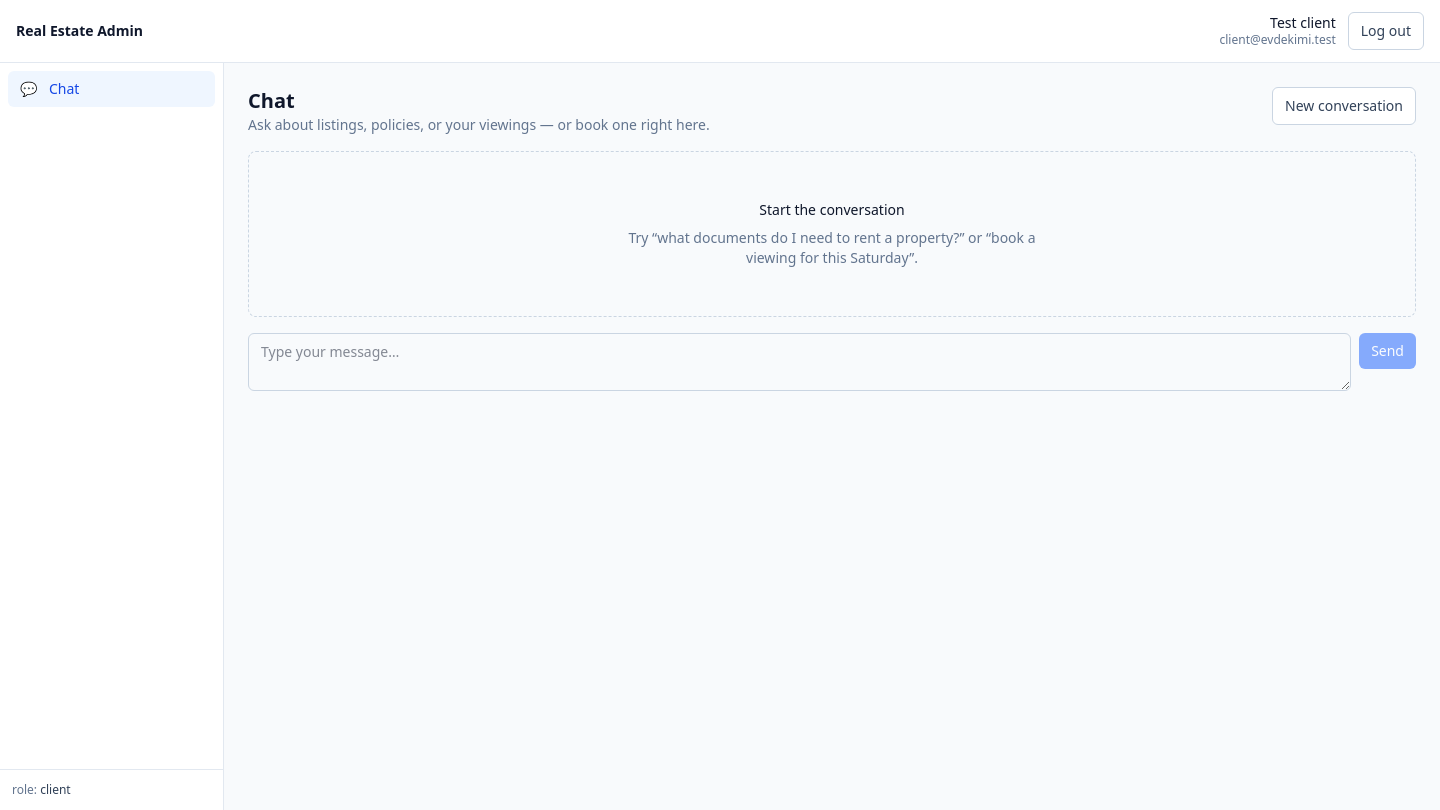
Test: ChatPage › shows an error state on a failed send and retries the same message
The image size is (1440, 810).
In the text box labelled "message": (800, 362) [248,333,1351,391], type "a question"
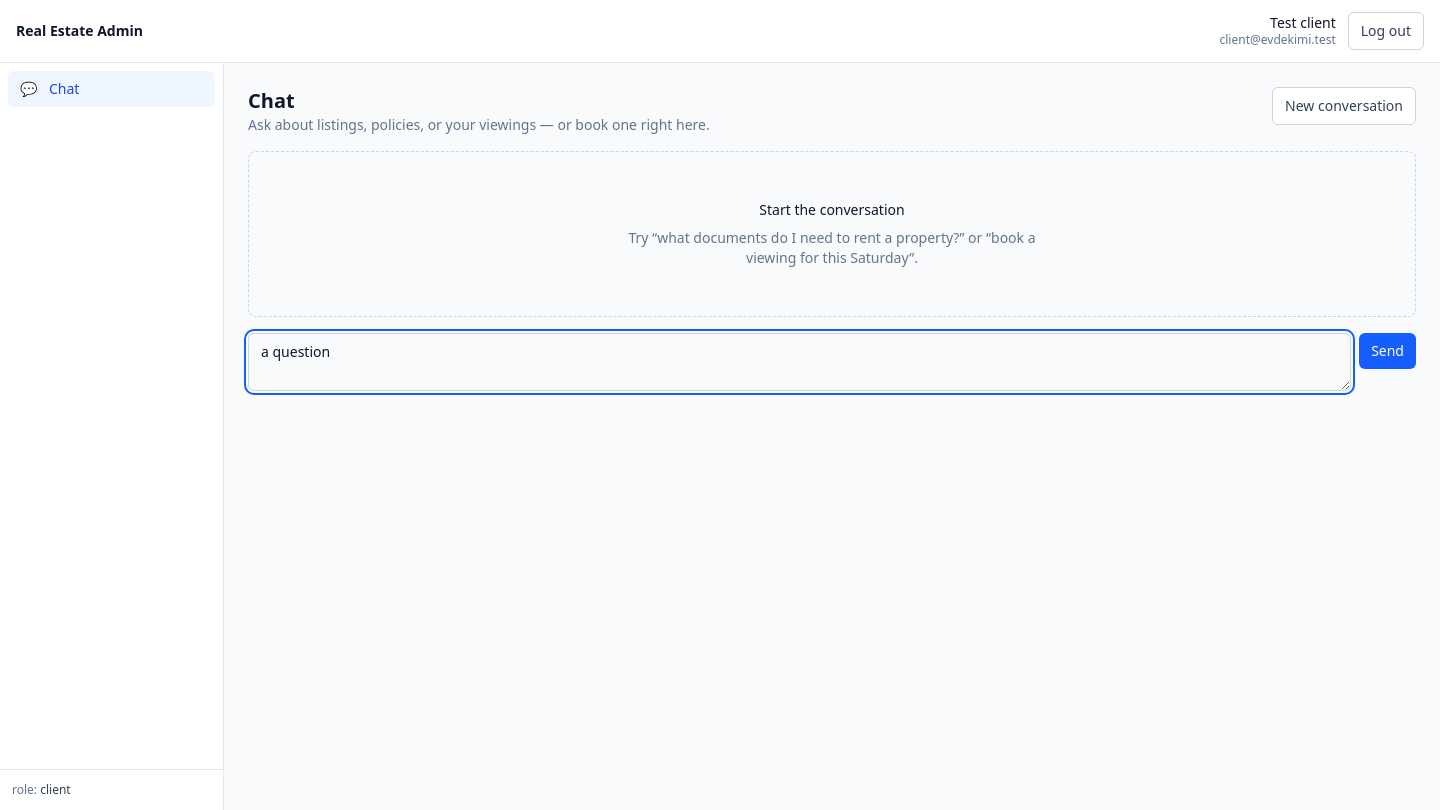
Click the button "Send": click(1388, 351) [1359,333,1416,369]
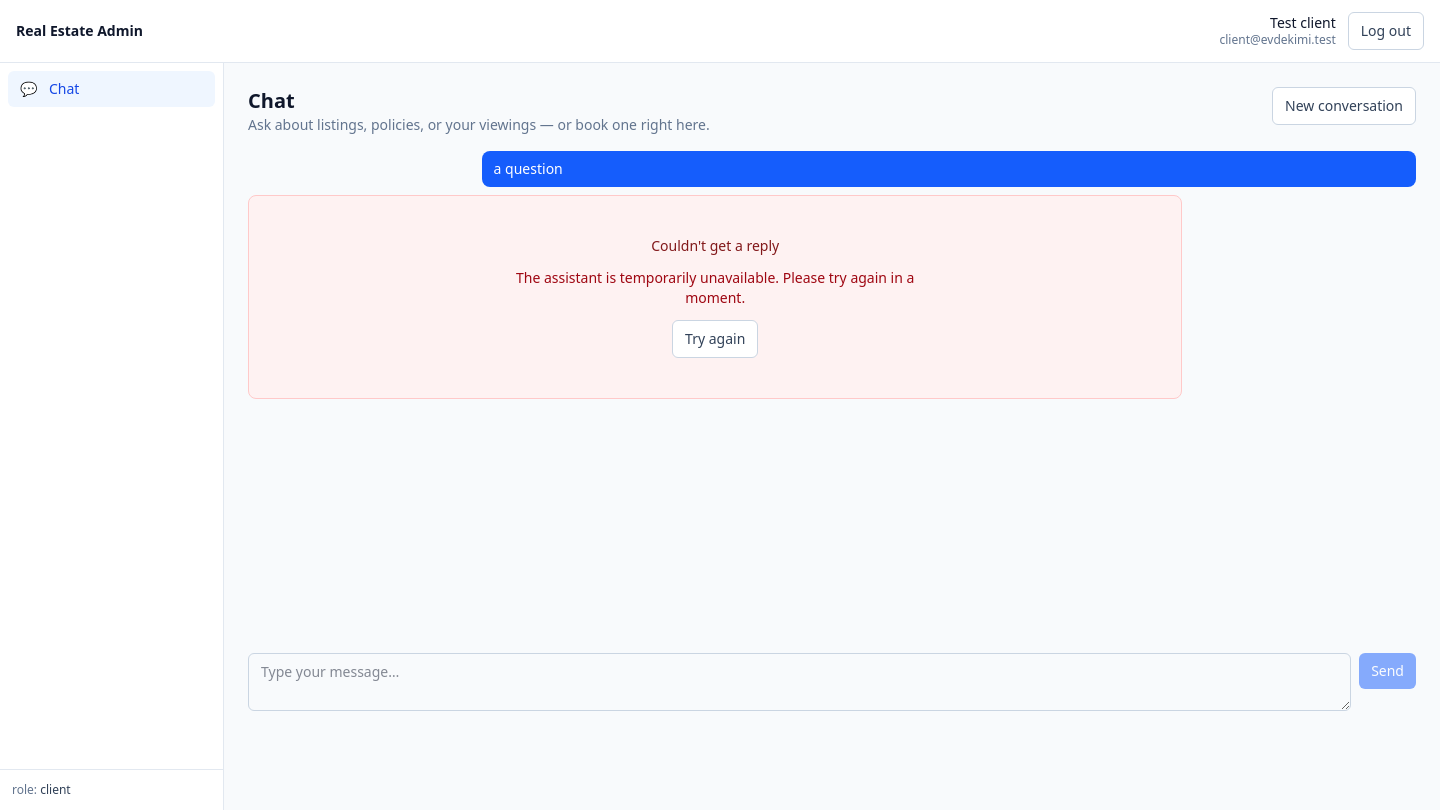
Expected: the message with test id "error-state" is shown, [248,195,1182,399]
Expected: the text "The assistant is temporarily unavailable. Please try again in a moment." is shown, [491,268,939,308]
Click the button "Try again": click(715, 339) [672,320,758,358]
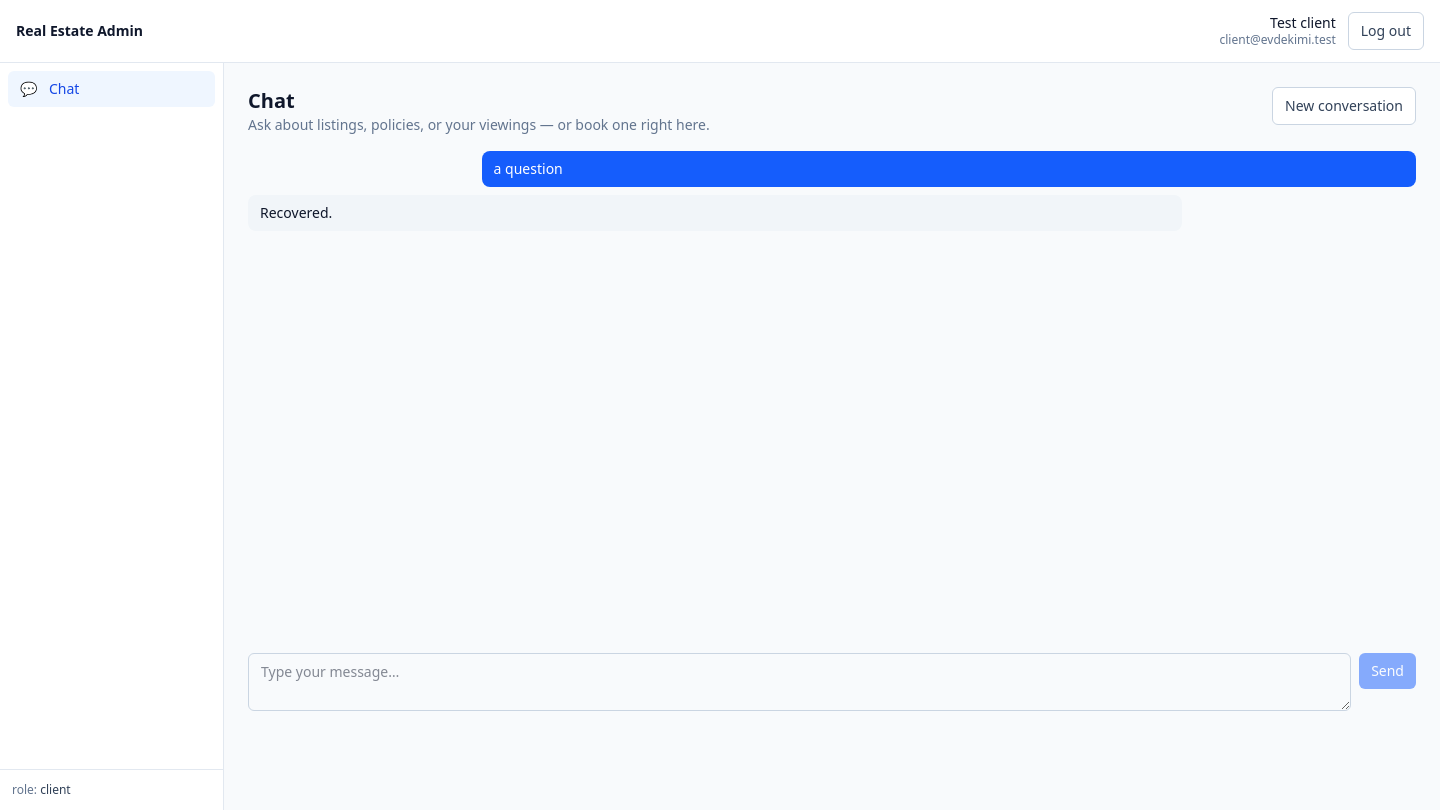
Expected: the text "Recovered." is shown, [248,195,1182,231]
